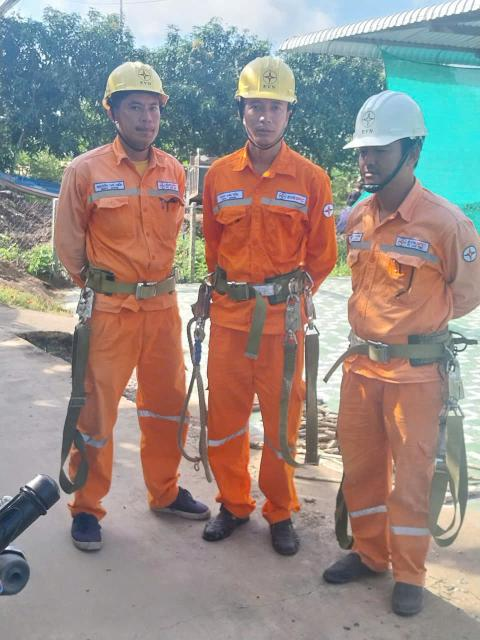harness: (207, 255, 318, 321), (342, 314, 468, 372), (70, 252, 191, 305)
helmet: (331, 69, 436, 156), (81, 56, 177, 104), (228, 53, 304, 111)
shoes: (188, 482, 244, 545), (311, 537, 380, 586), (153, 468, 210, 526), (67, 503, 111, 562), (260, 510, 306, 565), (390, 568, 438, 620)
